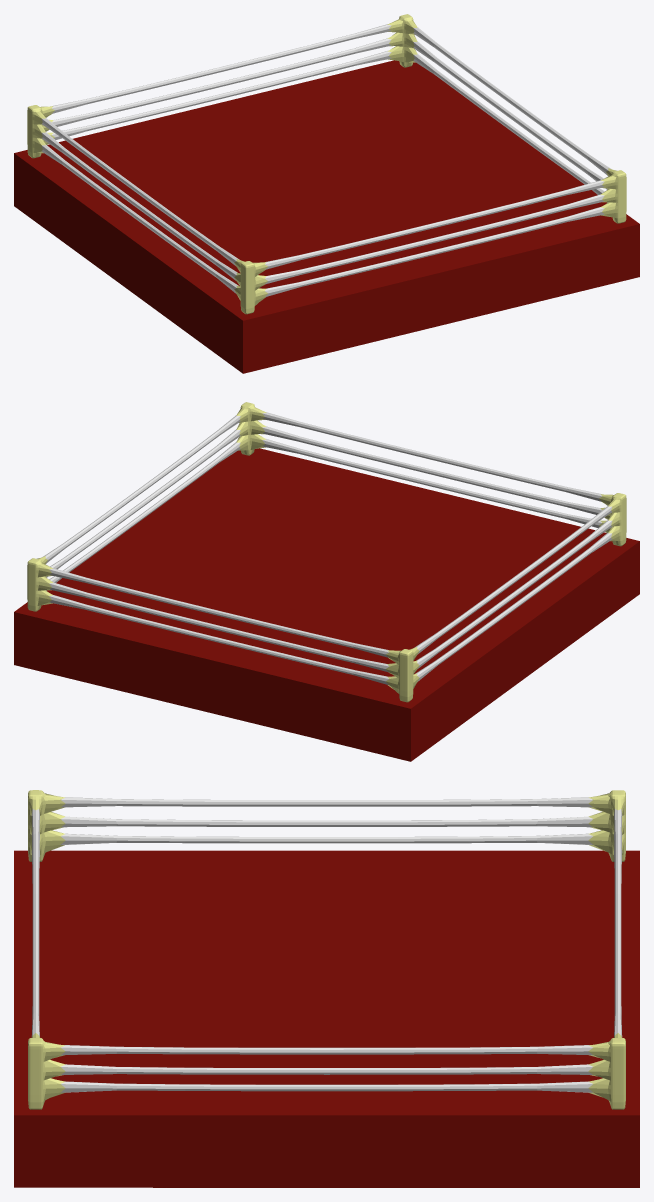
File: Box plataform.fbx
3 renders of one model, top to bottom at view 1: azimuth 30°, elevation 25°; view 2: azimuth 150°, elevation 25°; view 3: azimuth 270°, elevation 25°, orthographic. The views are drawn at different scales.
Parts seen in each view (by area): view 1: Cube, Cube.001; view 2: Cube, Cube.001; view 3: Cube, Cube.001.
Boxes of the visible parts, box(x1,y1,x2,y2) form: Cube: box(14, 60, 639, 373); Cube.001: box(27, 14, 626, 314); Cube: box(14, 448, 639, 761); Cube.001: box(27, 402, 626, 702); Cube: box(14, 850, 639, 1187); Cube.001: box(28, 790, 625, 1109).
Bounding box in the file's own units: 1566 × 384 × 1566.
